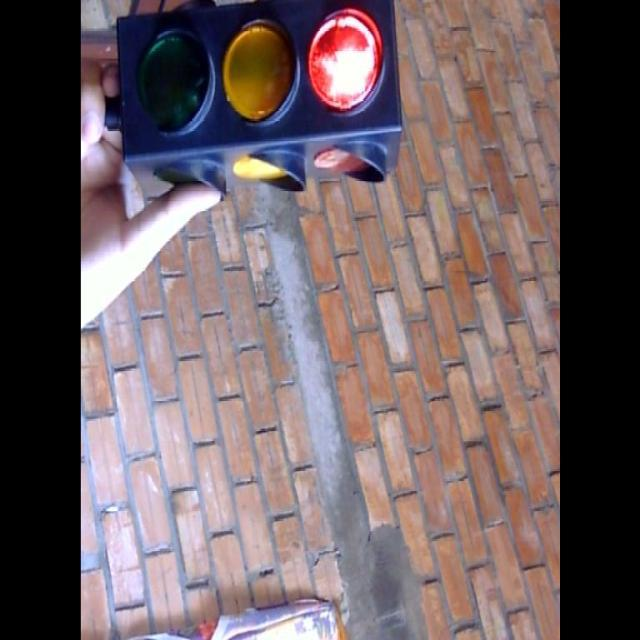red light: (305, 0, 386, 124)
